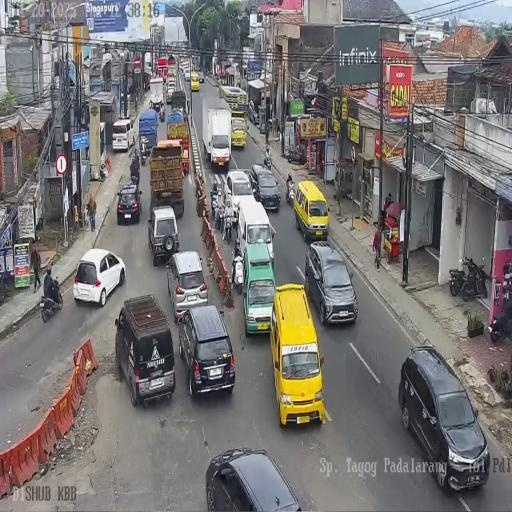3: (149, 140, 185, 216), (203, 105, 232, 171), (138, 109, 158, 151), (148, 77, 166, 115), (170, 89, 187, 121), (144, 52, 152, 72)
car: (398, 344, 488, 488), (270, 286, 324, 424), (115, 296, 177, 407), (204, 446, 302, 512), (178, 304, 235, 400), (305, 241, 356, 326), (167, 250, 209, 324), (241, 243, 276, 330), (72, 248, 124, 306), (294, 178, 329, 244), (147, 204, 179, 265), (224, 170, 256, 226), (250, 163, 280, 212), (116, 182, 141, 225), (112, 117, 136, 153), (230, 117, 248, 150), (247, 100, 260, 124), (190, 70, 200, 92), (166, 82, 174, 104), (184, 68, 190, 81), (198, 70, 204, 83)
truck: (461, 254, 488, 300), (489, 287, 511, 342), (41, 279, 63, 322), (286, 145, 305, 165), (210, 179, 219, 215), (129, 162, 140, 190), (264, 152, 273, 170), (158, 105, 164, 123)
